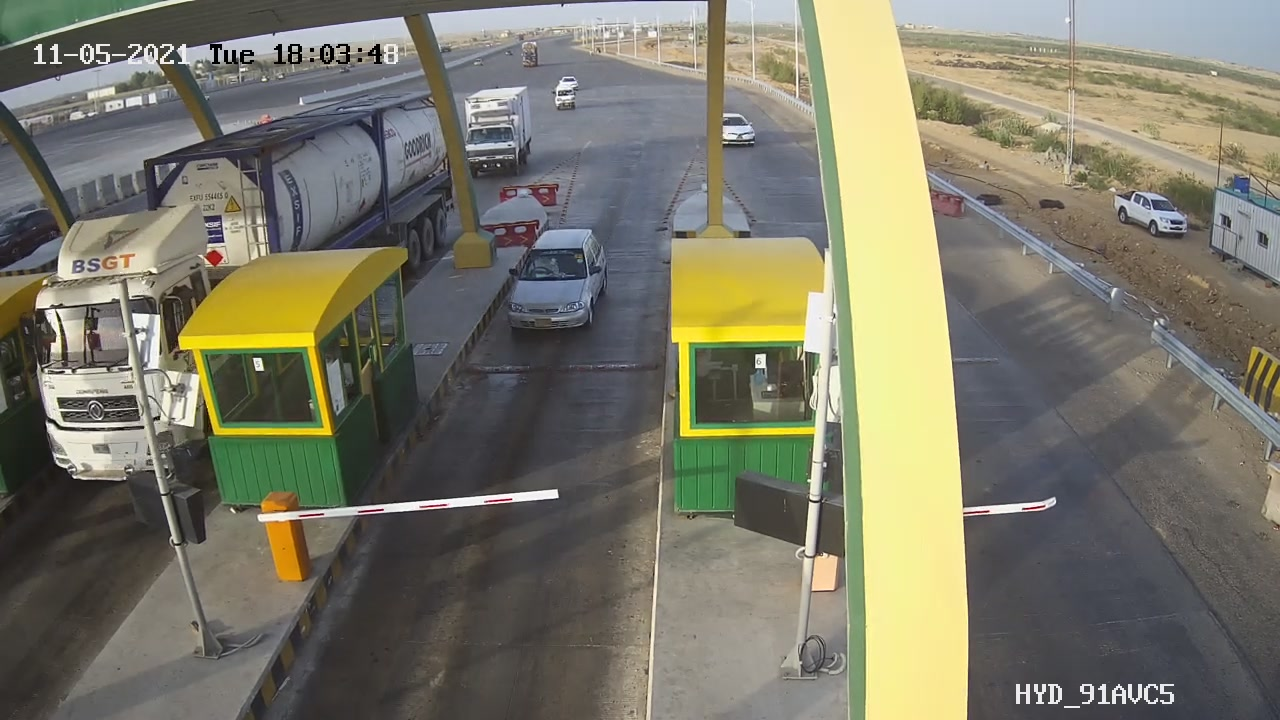F1: (483, 213, 638, 356)
